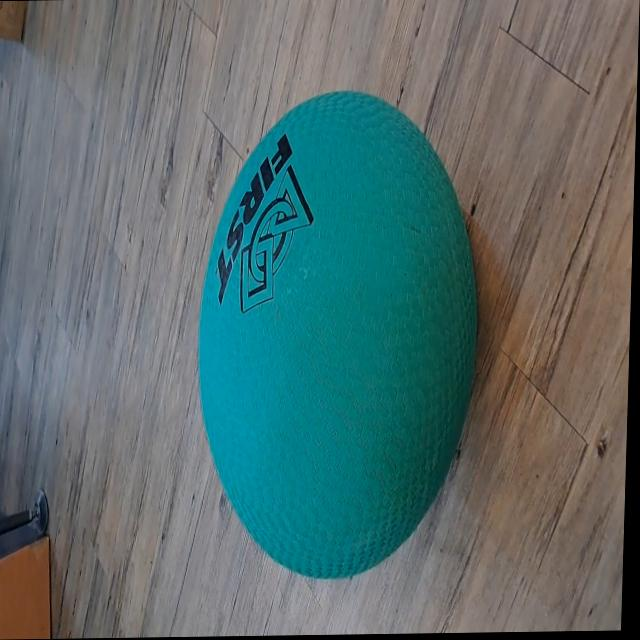ALGAE: (190, 86, 486, 582)
